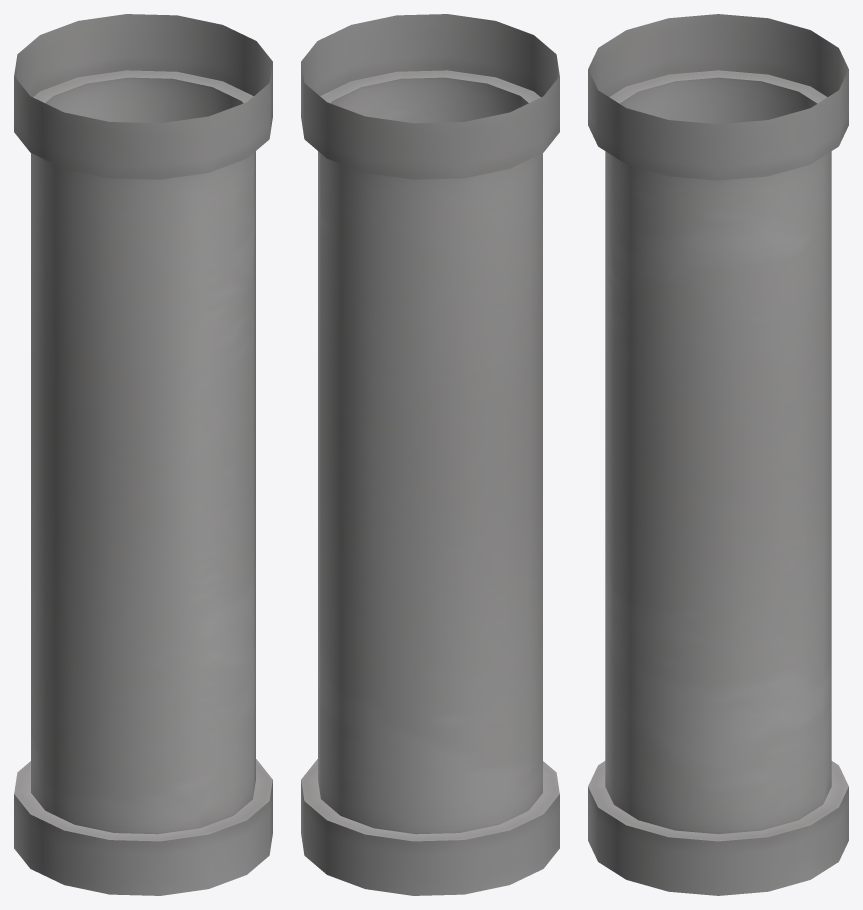
The model's file is Pipe5__2.fbx.
The picture shows the model from 3 angles, left to right: view 1: azimuth 30°, elevation 25°; view 2: azimuth 150°, elevation 25°; view 3: azimuth 270°, elevation 25°; orthographic projection.
Visible parts, largest first — view 1: Mat_Pipe_01; view 2: Mat_Pipe_01; view 3: Mat_Pipe_01.
Boxes of the visible parts, x1=… form: Mat_Pipe_01: x1=14, y1=14, x2=272, y2=895; Mat_Pipe_01: x1=301, y1=14, x2=559, y2=895; Mat_Pipe_01: x1=588, y1=14, x2=848, y2=895.
Bounding box in the file's own units: 0.3455 × 1.13 × 0.3455.
Materials: 1 (1 with a texture image).
